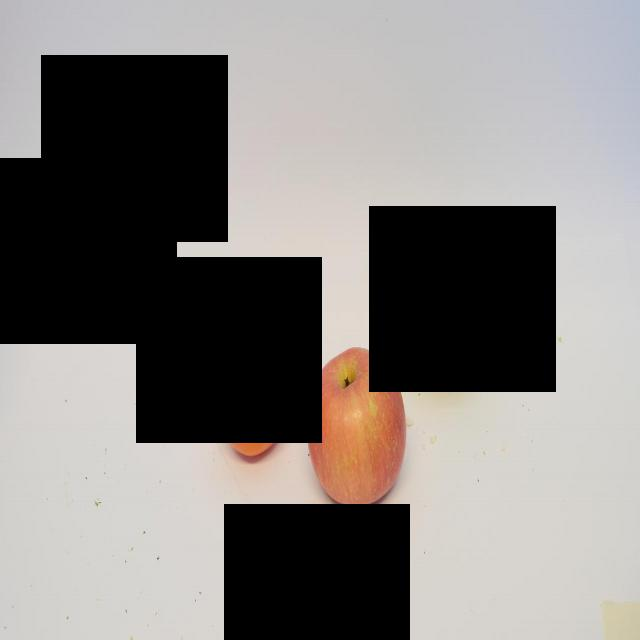apple: (306, 344, 410, 512), (388, 214, 488, 386)
tomato: (210, 316, 296, 464)
